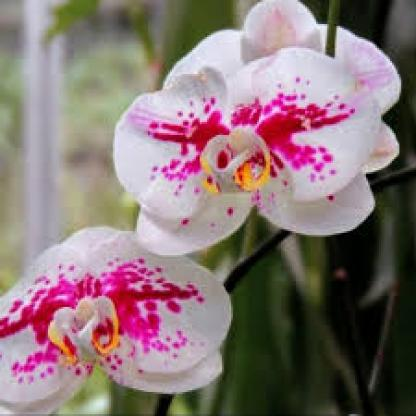ANGGREK: (5, 186, 230, 398)
